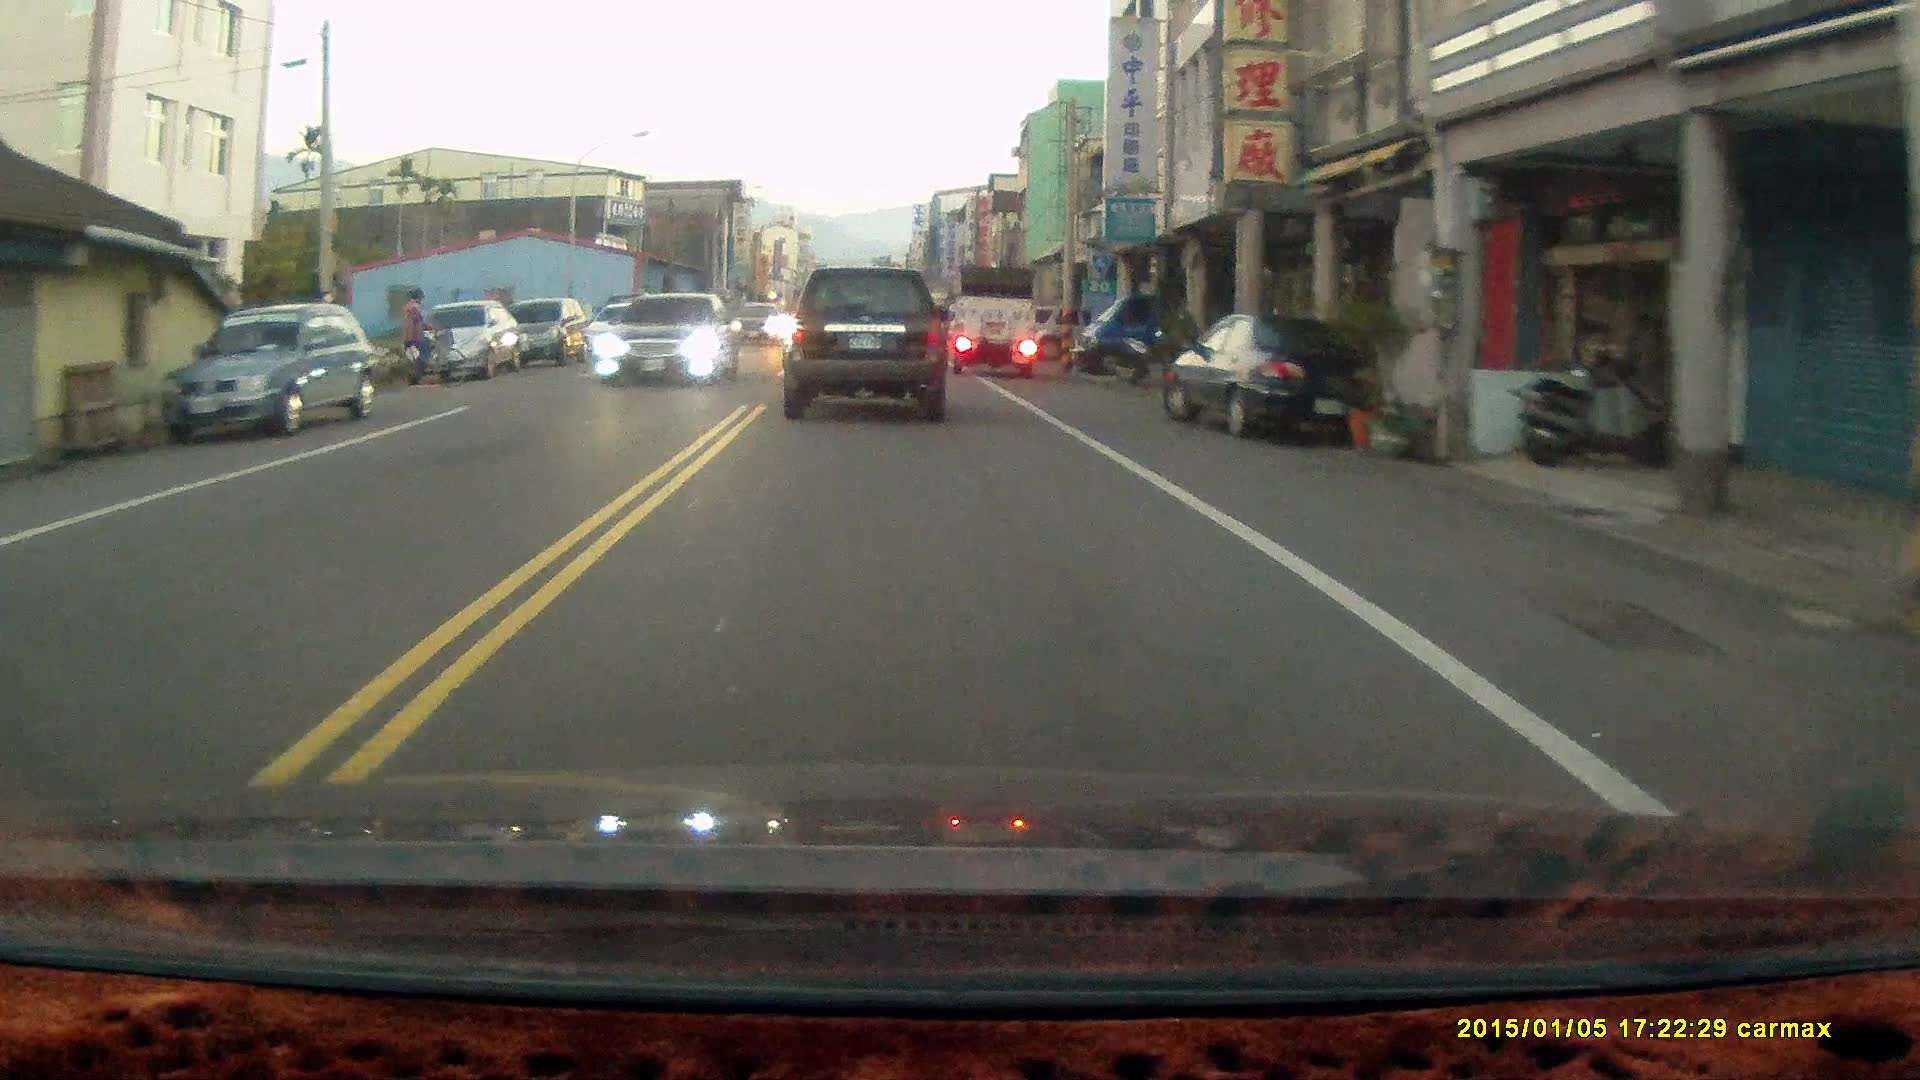rider: (369, 284, 470, 386)
vehicle: (166, 302, 381, 437), (1167, 310, 1382, 437), (788, 268, 956, 425), (1072, 278, 1216, 378), (593, 291, 736, 392), (949, 258, 1039, 373), (403, 294, 524, 377), (499, 297, 589, 366)
